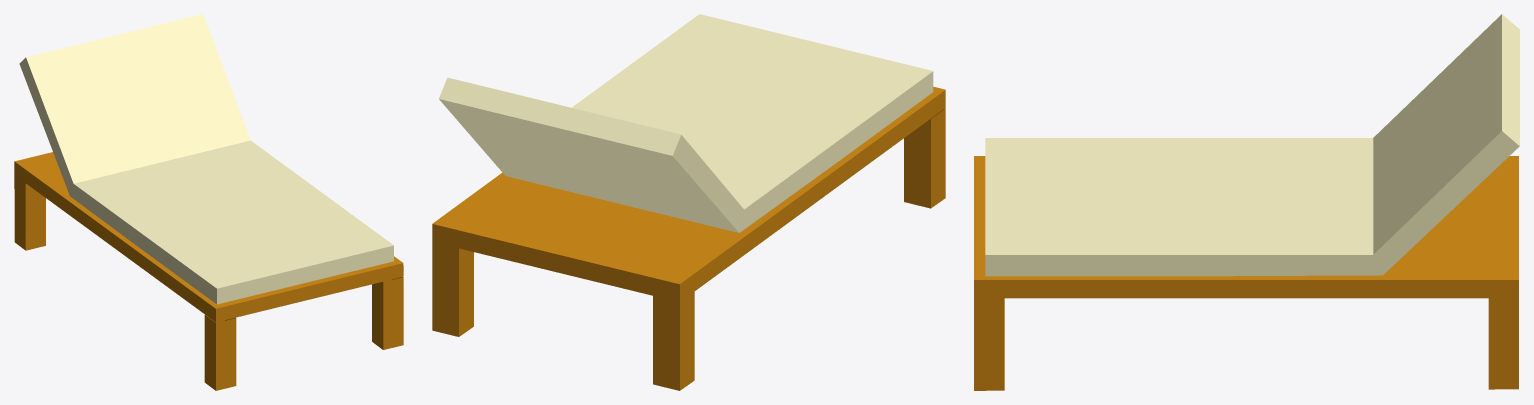
File: giuong1.fbx
3 views of the same model, side by side, from view 1: azimuth 30°, elevation 25°; view 2: azimuth 150°, elevation 25°; view 3: azimuth 270°, elevation 25° (orthographic). The views are drawn at different scales.
Parts seen in each view (by area): view 1: giuong1; view 2: giuong1; view 3: giuong1.
Boxes of the visible parts, x1=… form: giuong1: x1=14, y1=14, x2=403, y2=390; giuong1: x1=432, y1=14, x2=945, y2=390; giuong1: x1=974, y1=14, x2=1519, y2=390.
Size of the model in its own units: 191 by 185 by 356.
